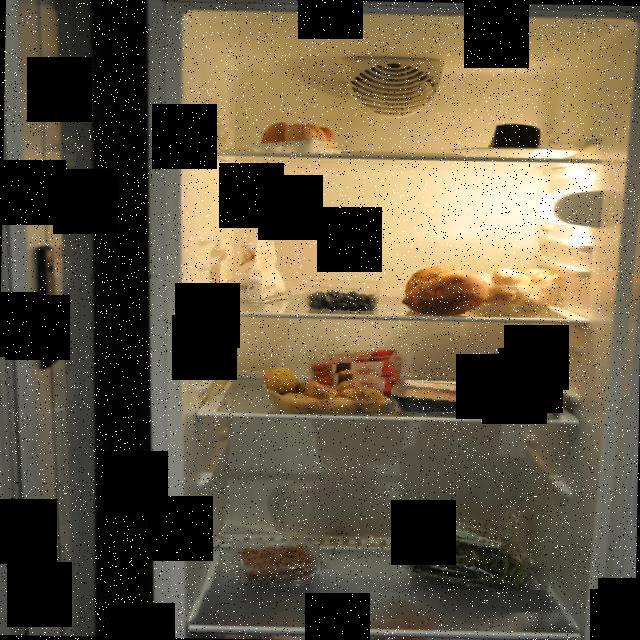blueberries: (306, 285, 379, 311)
chicken_breast: (391, 380, 533, 412)
eggs: (262, 122, 338, 153)
flour: (220, 233, 294, 304), (488, 122, 544, 152)
green_beans: (410, 518, 552, 590)
mushrooms: (460, 268, 561, 312)
potato: (262, 367, 396, 414)
shrimp: (236, 542, 320, 588)
strawberries: (302, 350, 398, 392)
sweet_potato: (401, 264, 488, 316)
